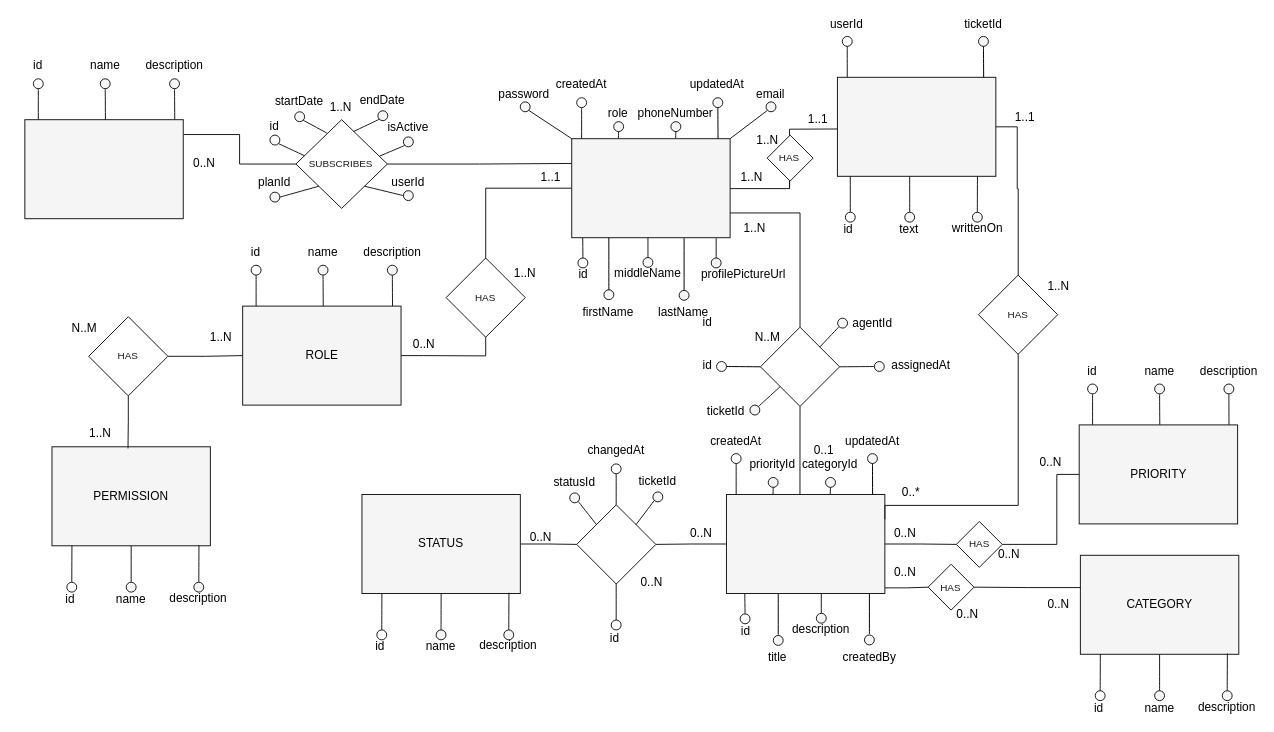
Image size: 1274x732. Some labels were removed from this diagram. Here are the shapes that lost their labels. From the top down, the box of each, then its label:
(836, 76, 996, 176): COMMENT
(24, 119, 183, 219): PLAN
(571, 138, 730, 238): USER
(759, 326, 840, 406): ASSIGNED TO
(576, 504, 656, 584): REGISTER
(725, 494, 885, 594): TICKET
